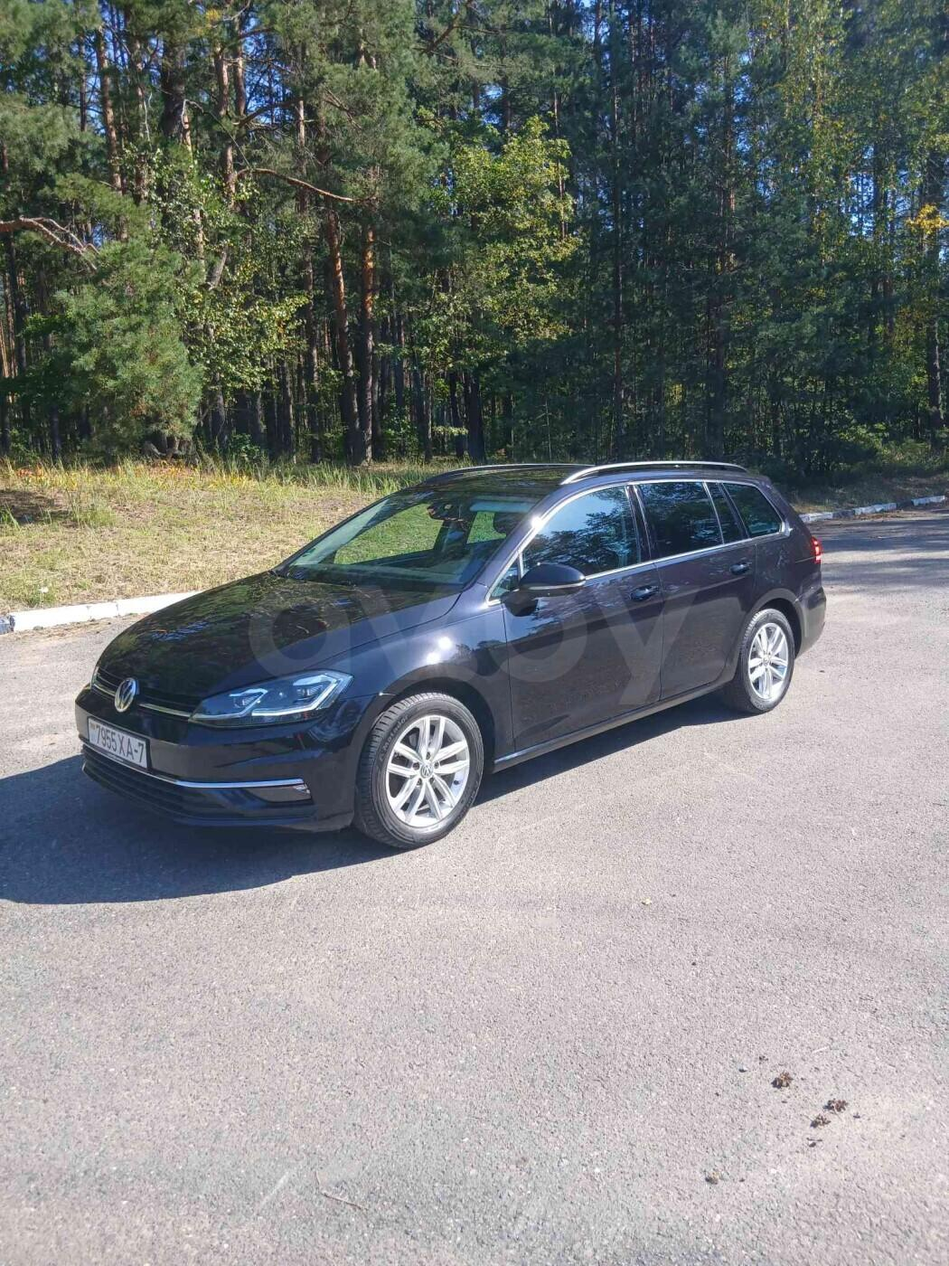Golf_2017-2021: (72, 448, 834, 850)
